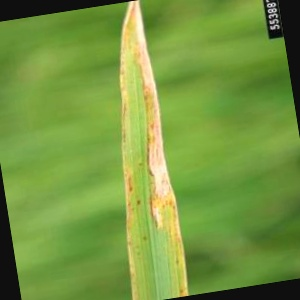Leaf_Blast: (107, 3, 173, 300)
